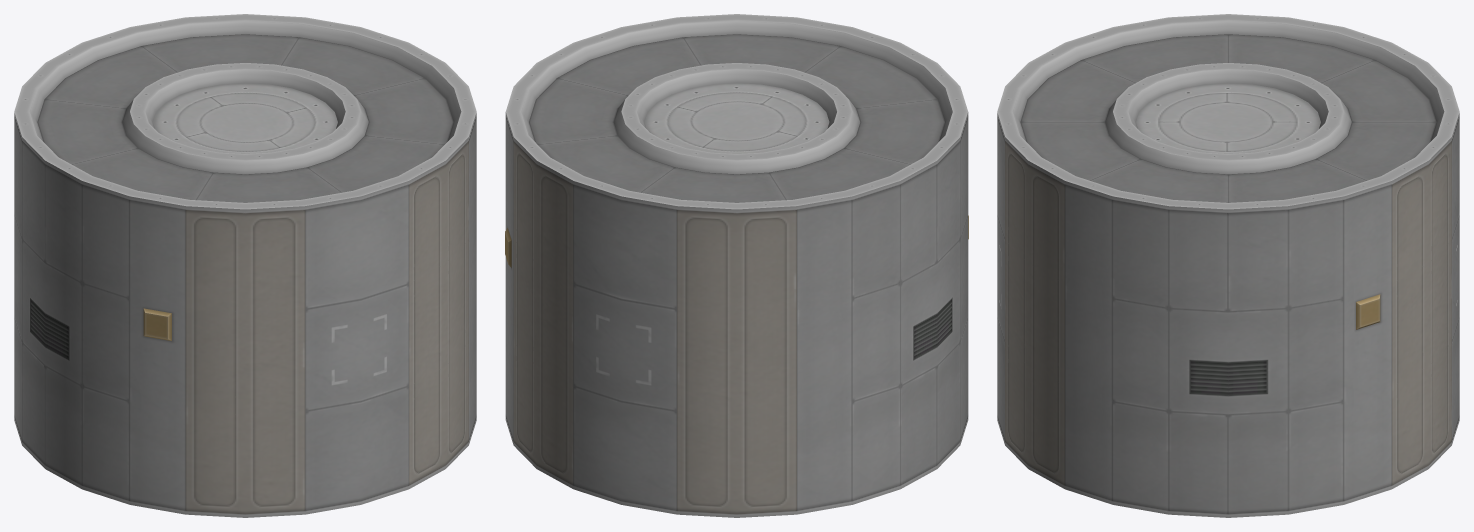
File: Alniyat_Crew_3_2.obj
3 views of the same model, side by side, from view 1: azimuth 30°, elevation 25°; view 2: azimuth 150°, elevation 25°; view 3: azimuth 270°, elevation 25° (orthographic).
Parts seen in each view (by area): view 1: Alniyat_Crew_3_2; view 2: Alniyat_Crew_3_2; view 3: Alniyat_Crew_3_2.
Boxes of the visible parts, x1,y1,x2,y2 form: Alniyat_Crew_3_2: (14,14,476,517); Alniyat_Crew_3_2: (505,14,968,517); Alniyat_Crew_3_2: (997,14,1459,517).
Size of the model in its own units: 1.88 by 1.38 by 1.88.
